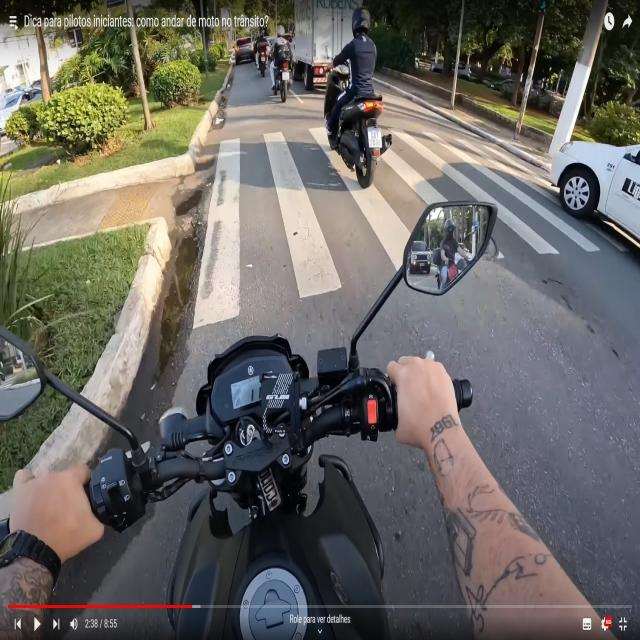placa_moto: (367, 126, 382, 148)
